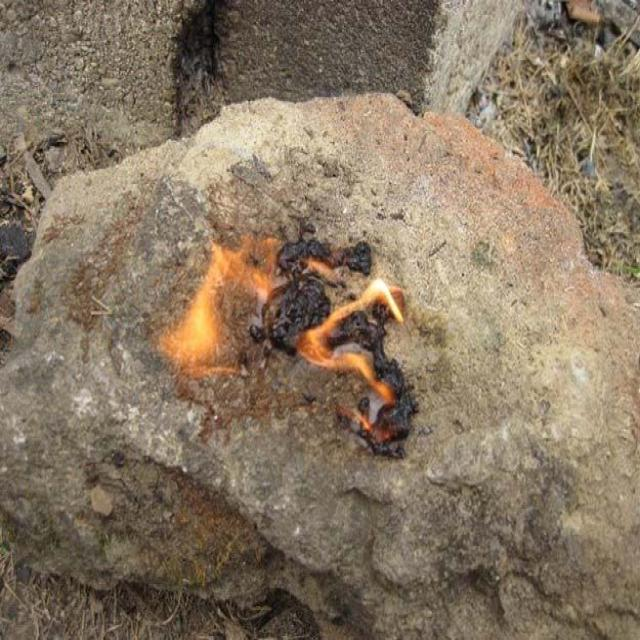fire: (165, 235, 279, 379), (290, 276, 406, 389)
